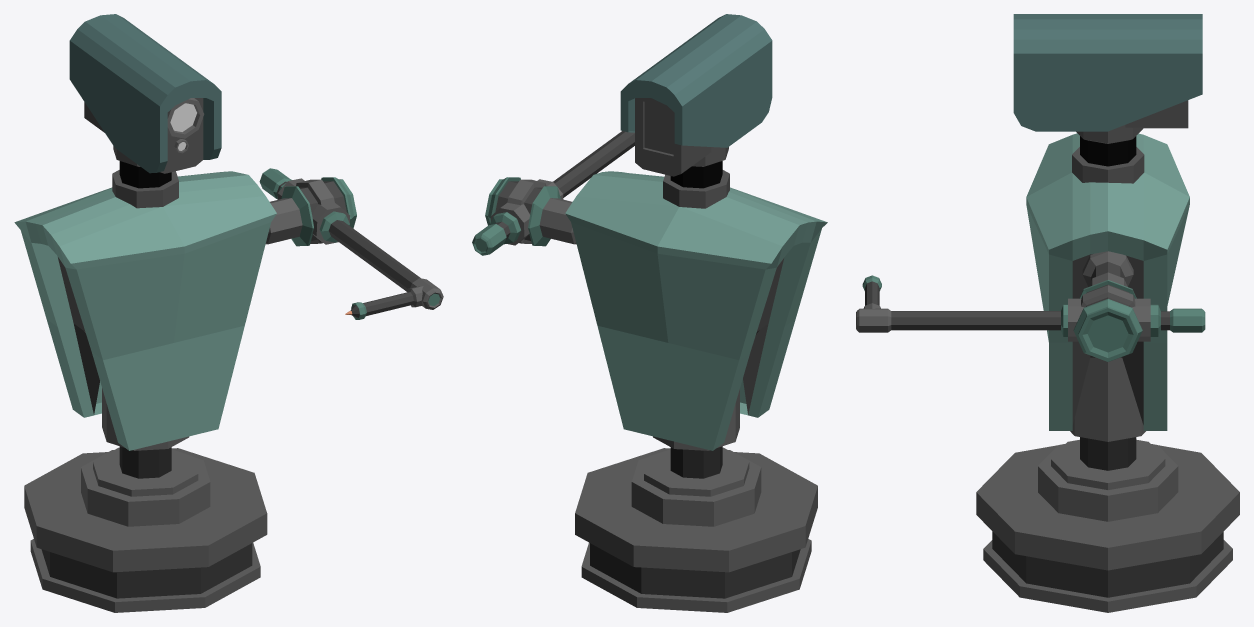
File: WeaponSmithBot.fbx
3 views of the same model, side by side, from view 1: azimuth 30°, elevation 25°; view 2: azimuth 150°, elevation 25°; view 3: azimuth 270°, elevation 25° (orthographic). The views are drawn at different scales.
Parts seen in each view (by area): view 1: Cylinder.001, Cylinder, Cylinder.002, Cylinder.003; view 2: Cylinder.001, Cylinder, Cylinder.002, Cylinder.003; view 3: Cylinder.001, Cylinder, Cylinder.002, Cylinder.003.
Part boxes in pixels (left/top/right/bottom): Cylinder.001: left=14, top=171, right=276, bottom=526; Cylinder: left=24, top=448, right=267, bottom=612; Cylinder.002: left=69, top=14, right=221, bottom=208; Cylinder.003: left=259, top=168, right=443, bottom=319; Cylinder.001: left=565, top=171, right=827, bottom=526; Cylinder: left=575, top=448, right=817, bottom=612; Cylinder.002: left=620, top=14, right=772, bottom=208; Cylinder.003: left=472, top=131, right=634, bottom=255; Cylinder.001: left=1026, top=133, right=1189, bottom=521; Cylinder: left=976, top=445, right=1239, bottom=612; Cylinder.002: left=1013, top=14, right=1202, bottom=183; Cylinder.003: left=856, top=251, right=1205, bottom=361.
Bounding box in the file's own units: 297 × 478 × 308.
